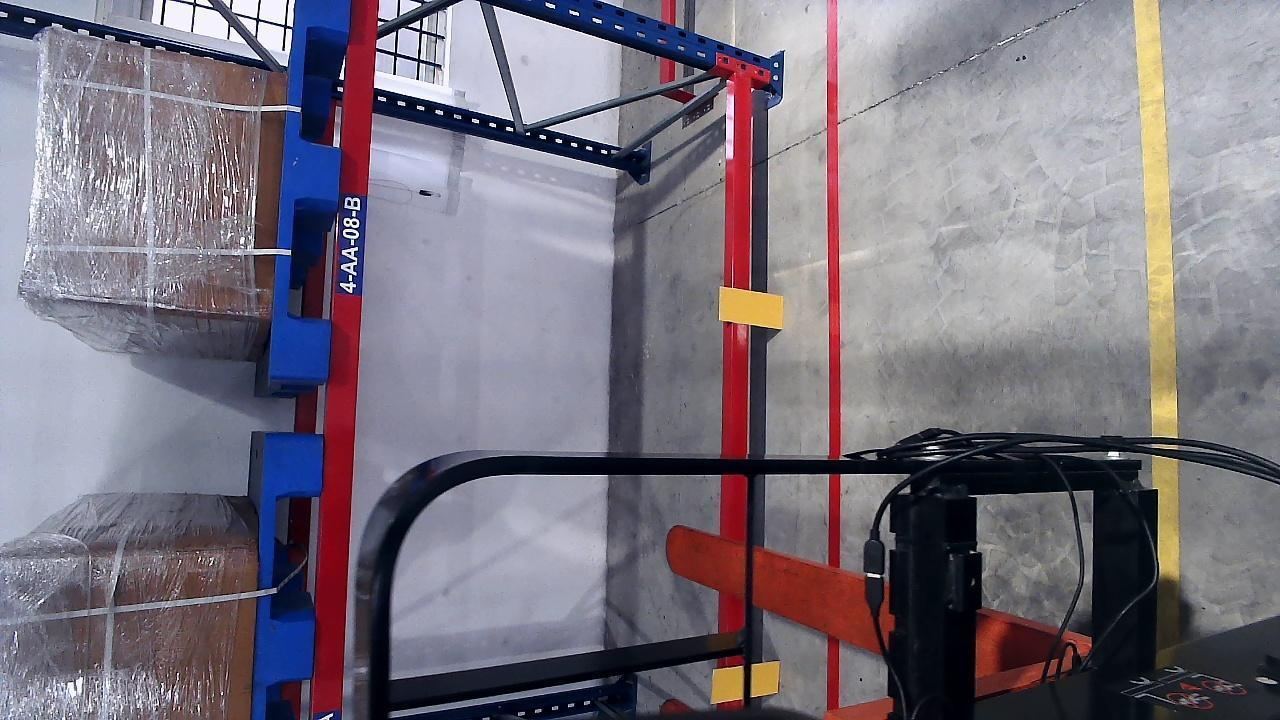red_line: (819, 6, 844, 566)
yellow_line: (1133, 0, 1180, 589)
